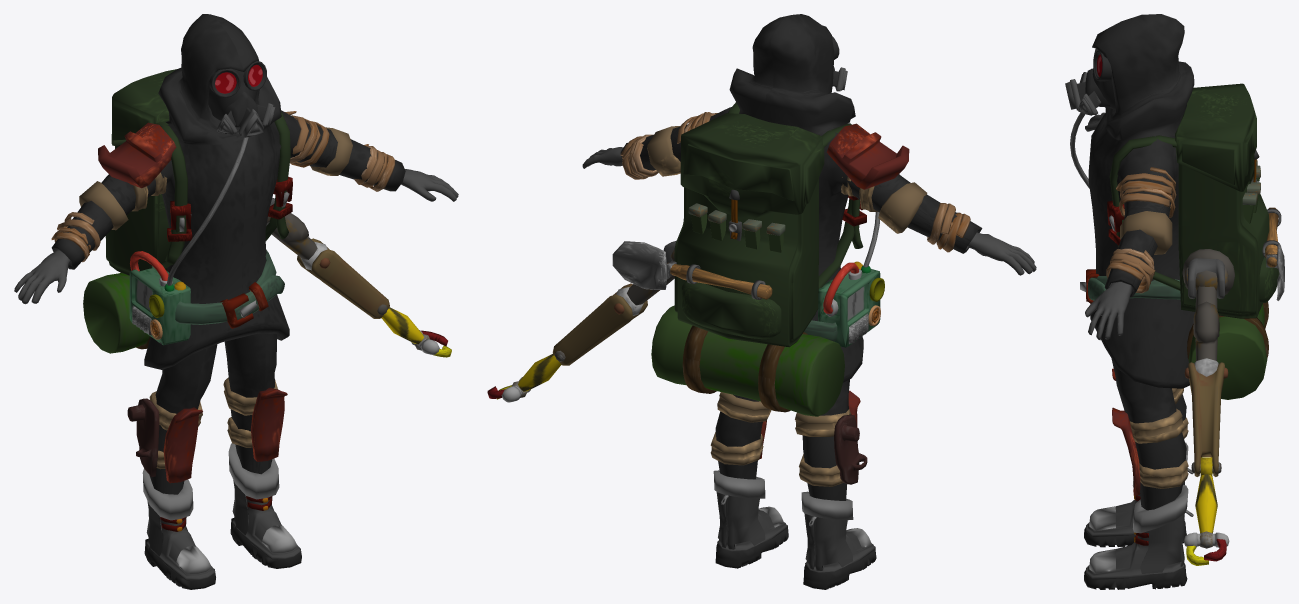
Rendered from Adrian.fbx.
3 views of the same model, side by side, from view 1: azimuth 30°, elevation 25°; view 2: azimuth 150°, elevation 25°; view 3: azimuth 270°, elevation 25° (orthographic). The views are drawn at different scales.
Parts seen in each view (by area): view 1: Casaco, proteção Canela, Saco de Dormir, Mochila, proteção Ombro, Purificado, Afofado, Morral, Cindo da mochila, Base da Bota, sucata do meio, Sinto (+17 smaller); view 2: Casaco, Morral, Mochila, Saco de Dormir, estojo de primeiros socorros, Proteção Contra Umidade, velcro da proteção Canela, proteção Ombro, Purificado, Cotoveleira, sucata do meio, Armação da mochila (+12 smaller); view 3: Casaco, Mochila, Morral, Saco de Dormir, sucata do meio, velcro da proteção Canela, Base da Bota, Sola da Bota, Proteção Contra Umidade, sucata de Robo, Trapos da Esquerda de sima, Afofado (+25 smaller).
Boxes of the visible parts, box(x1,y1,x2,y2) form: Casaco: box(14, 14, 458, 494); proteção Canela: box(163, 387, 287, 483); Saco de Dormir: box(83, 273, 149, 353); Mochila: box(105, 145, 169, 275); proteção Ombro: box(98, 122, 176, 188); Purificado: box(129, 266, 190, 345); Afofado: box(142, 443, 279, 520); Morral: box(111, 69, 176, 145); Cindo da mochila: box(155, 112, 290, 268); Base da Bota: box(146, 498, 300, 580); sucata do meio: box(297, 238, 389, 318); Sinto: box(175, 250, 284, 324); Casaco: box(582, 14, 1036, 500); Morral: box(680, 113, 824, 219); Mochila: box(674, 178, 818, 347); Saco de Dormir: box(651, 305, 844, 416); estojo de primeiros socorros: box(681, 282, 781, 339); Proteção Contra Umidade: box(716, 492, 852, 570); velcro da proteção Canela: box(710, 392, 851, 486); proteção Ombro: box(826, 123, 909, 189); Purificado: box(818, 269, 880, 347); Cotoveleira: box(647, 125, 927, 233); sucata do meio: box(552, 283, 647, 365); Armação da mochila: box(682, 325, 807, 412); Casaco: box(1085, 14, 1194, 510); Mochila: box(1178, 164, 1269, 318); Morral: box(1175, 83, 1256, 191); Saco de Dormir: box(1188, 304, 1267, 399); sucata do meio: box(1188, 362, 1224, 476); velcro da proteção Canela: box(1130, 388, 1188, 488); Base da Bota: box(1086, 494, 1184, 579); Sola da Bota: box(1084, 521, 1187, 589); Proteção Contra Umidade: box(1140, 481, 1184, 573); sucata de Robo: box(1193, 286, 1219, 361); Trapos da Esquerda de sima: box(1116, 167, 1176, 217); Afofado: box(1132, 442, 1188, 533).
Bounding box in the file's own units: 166 × 178 × 64.73.
